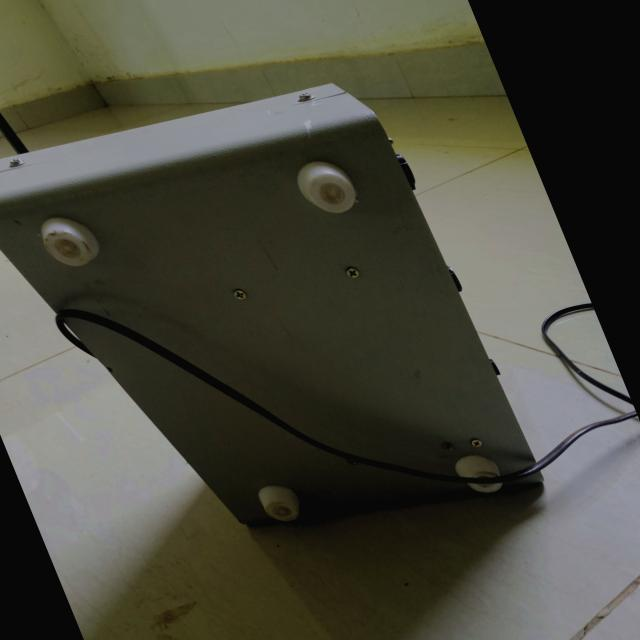Function Generator 100Khz: (0, 78, 613, 530)
